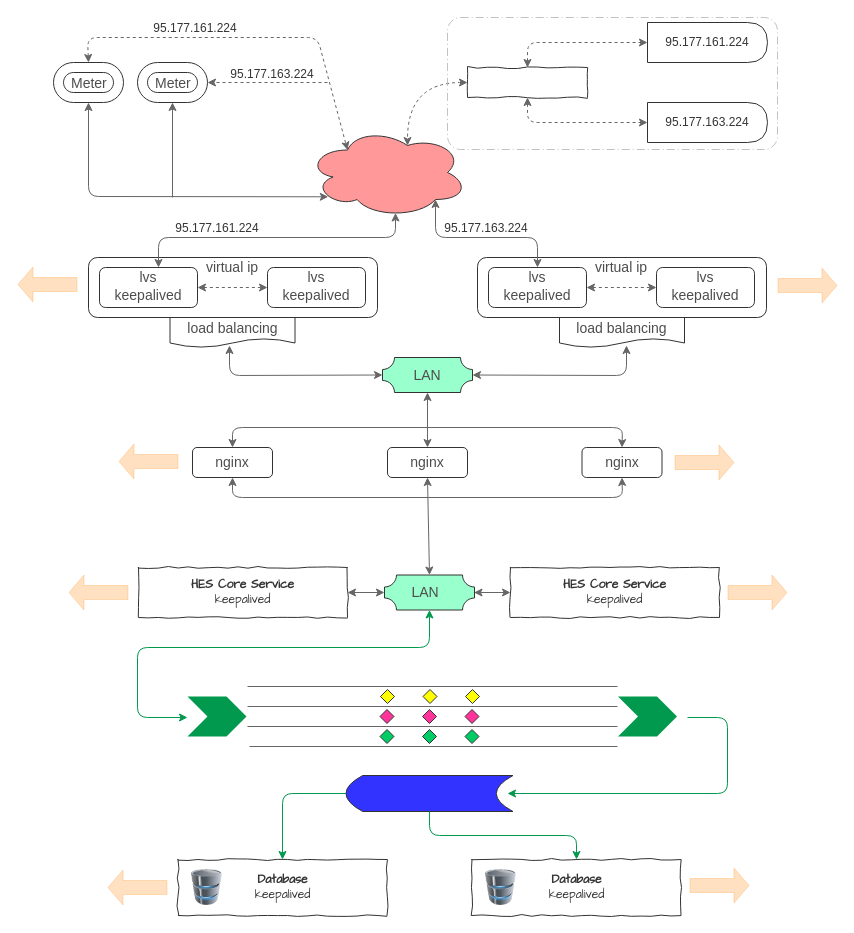
Image size: 854x933. Some labels were removed from this diagram. The box of each missing label's shape, as (x1, y1, x2, y2) in pixels:
Database Service: (345, 774, 513, 812)
DNS Server: (466, 66, 588, 98)
VPN: (306, 126, 468, 218)
